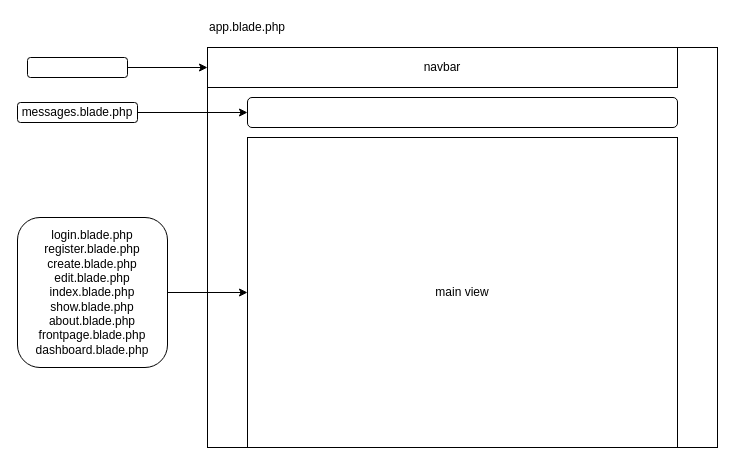
Some shapes in this 735 by 465 pixel diagram are drawn without their labels. The shapes that lost their labels are listed below. From the top down, each one's centre as x and y in pixels, then its label:
[77,67]: navbar.blade.php
[462,112]: session error and success messages
